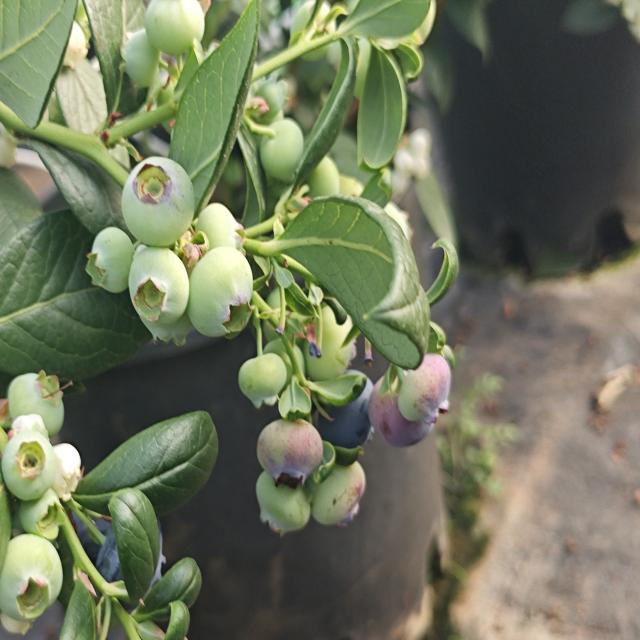ripe: (70, 505, 170, 607), (302, 367, 381, 464)
